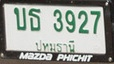txt19: (27, 7, 41, 32)
txt21: (13, 6, 28, 31)
